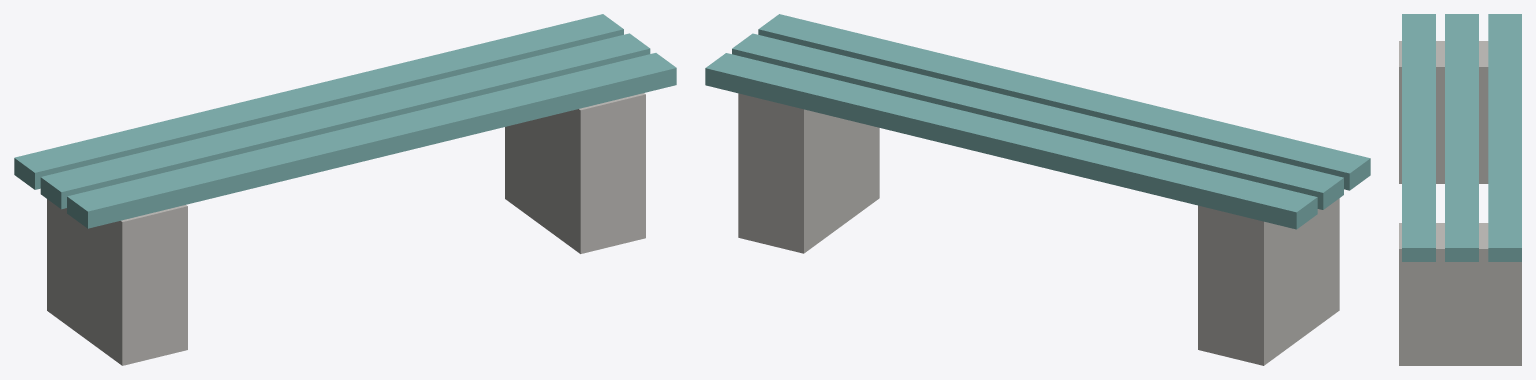
File: fv_bench.glb
3 views of the same model, side by side, from view 1: azimuth 30°, elevation 25°; view 2: azimuth 150°, elevation 25°; view 3: azimuth 270°, elevation 25° (orthographic). The views are drawn at different scales.
Parts seen in each view (by area): view 1: fv_bench; view 2: fv_bench; view 3: fv_bench.
Boxes of the visible parts, <box> form: fv_bench: <box>14,14,676,365</box>; fv_bench: <box>705,14,1370,365</box>; fv_bench: <box>1399,14,1521,365</box>.
Bounding box in the file's own units: 1.8 × 0.4701 × 0.3999.
